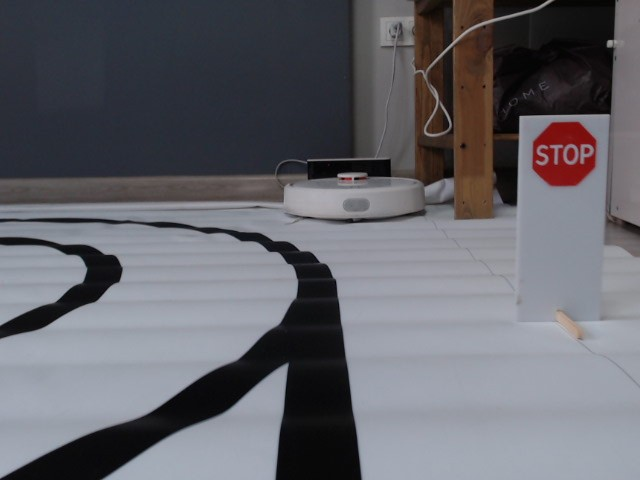Stop: (532, 120, 598, 189)
